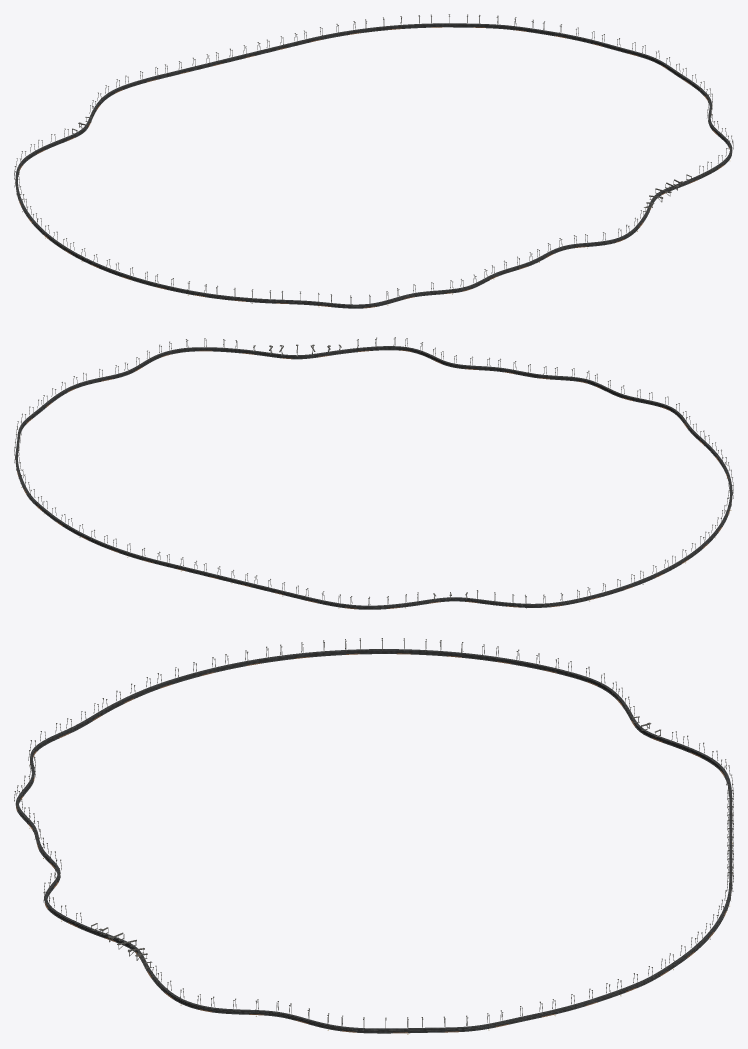
Rendered from BalloonRail_Track.fbx.
The picture shows the model from 3 angles, top to bottom: view 1: azimuth 30°, elevation 25°; view 2: azimuth 150°, elevation 25°; view 3: azimuth 270°, elevation 25°; orthographic projection. The views are drawn at different scales.
Parts seen in each view (by area): view 1: Static_R_RailSteel, Static_R_Hanger, Static_R_RailRust; view 2: Static_R_RailSteel, Static_R_Hanger, Static_R_RailRust; view 3: Static_R_RailSteel, Static_R_Hanger, Static_R_RailRust.
Part boxes in pixels (x1,y1,x2,y2): Static_R_RailSteel: [15, 23, 732, 308]; Static_R_Hanger: [14, 14, 733, 306]; Static_R_RailRust: [19, 27, 729, 308]; Static_R_RailSteel: [15, 346, 732, 609]; Static_R_Hanger: [14, 337, 733, 607]; Static_R_RailRust: [17, 350, 730, 609]; Static_R_RailSteel: [16, 649, 731, 1033]; Static_R_Hanger: [14, 638, 733, 1030]; Static_R_RailRust: [16, 653, 726, 1033].
Bounding box in the file's own units: 275 × 5.24 × 219.
